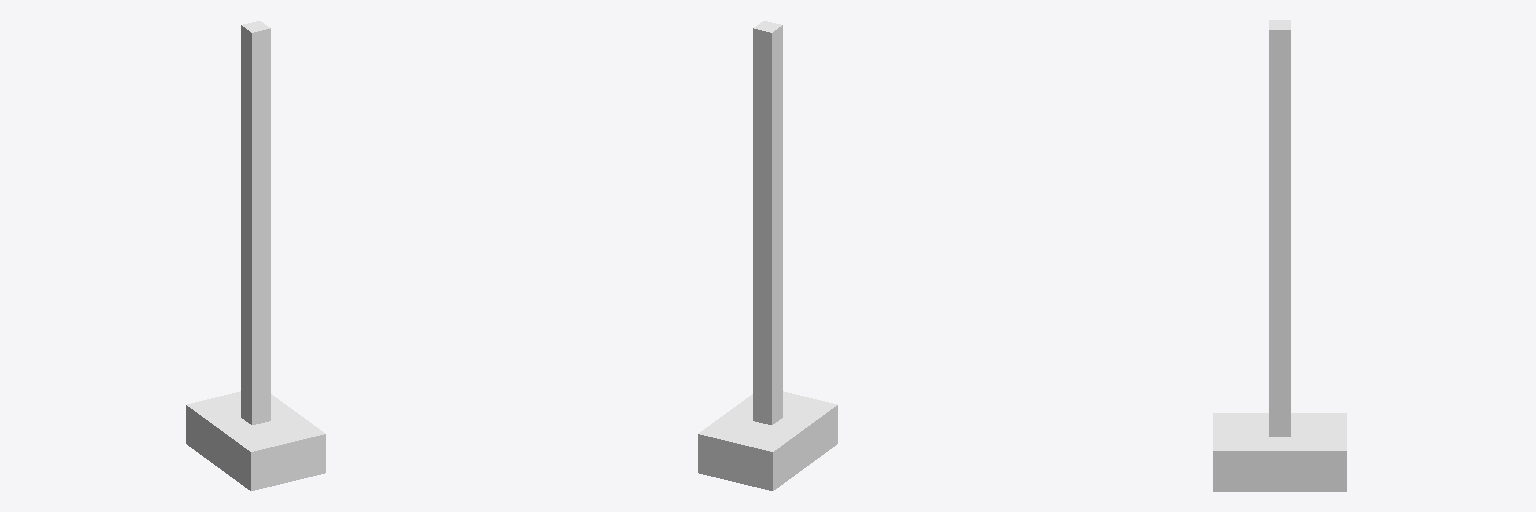
robot.urdf — origins:
<?xml version="1.0"?>

<robot name="origins">
	<link name="base_link">
   		<visual>
     			<geometry>
       				<box size="0.2 .3 .1"/>
     			</geometry>
			<origin rpy="0 0 0" xyz="0 0 0.05"/>
			<material name="white">
				<color rgba="1 1 1 1"/>
			</material>
   		</visual>
		<collision>
			<geometry>
       				<box size="0.2 .3 0.1"/>
			</geometry>
		</collision>
				
 	</link>


	<link name="link_1">
   		<visual>
     			<geometry>
       				<box size="0.05 .05 0.5"/>
     			</geometry>
			<origin rpy="0 0 0" xyz="0 0 0.25"/>
			<material name="white">
				<color rgba="1 1 1 1"/>
			</material>
   		</visual>
		<collision>
			<geometry>
       				<box size="0.05 .05 0.5"/>
			</geometry>
		</collision>

 	</link>
        <link name="link_2">
                <visual>
                        <geometry>
                                <box size="0.05 .05 0.5"/>
                        </geometry>
                        <origin rpy="0 0 0" xyz="0.04 0 0.25"/>
                        <material name="white">
                                <color rgba="1 1 1 1"/>
                        </material>
                </visual>
                <collision>
                        <geometry>
                                <box size="0.05 .05 0.5"/>
                        </geometry>
                </collision>

        </link>
  <link name="tool0"/>

	<joint name="joint_1" type="revolute">
		<parent link="base_link"/>
		<child link="link_1"/>
                <axis xyz="0 0 1"/>
		<origin xyz="0 0 0.1"/>
                <limit effort ="0" lower="-1.0" upper="1.0" velocity="0.5"/>
	</joint>


	<joint name="joint_2" type="revolute">
		<parent link="link_1"/>
		<child link="link_2"/>
                <axis xyz="1 0 0"/>
                <origin xyz="-0.04 0 0.5"/>
                <limit effort ="0" lower="-2.5" upper="2.5" velocity="0.5"/>
	</joint>

  <joint name="joint_6-tool0" type="fixed">
    <parent link="link_2"/>
    <child link="tool0"/>
    <origin rpy="0 0 0" xyz="0 0 0.5"/>
  </joint>

     	

</robot>

--- Render facts (derived) ---
The picture shows the robot from 3 angles, left to right: view 1: azimuth 30°, elevation 25°; view 2: azimuth 150°, elevation 25°; view 3: azimuth 270°, elevation 25°; orthographic projection.
Robot: origins — 4 links, 3 joints (2 revolute, 1 fixed); root link base_link; default pose: all joints at 0.
Links seen in each view (by area): view 1: base_link, link_2, link_1; view 2: base_link, link_2, link_1; view 3: base_link, link_2, link_1.
Boxes of the visible links, box(x1,y1,x2,y2) form: base_link: box(186, 391, 325, 490); link_2: box(241, 21, 270, 228); link_1: box(241, 222, 270, 424); base_link: box(698, 391, 837, 490); link_2: box(753, 21, 782, 228); link_1: box(753, 222, 782, 424); base_link: box(1213, 413, 1346, 491); link_2: box(1269, 20, 1290, 232); link_1: box(1269, 233, 1290, 436).
Size in the robot's own frame: 0.2 by 0.3 by 1.1 metres.
Geometry: primitives only (box / cylinder / sphere), no mesh files.